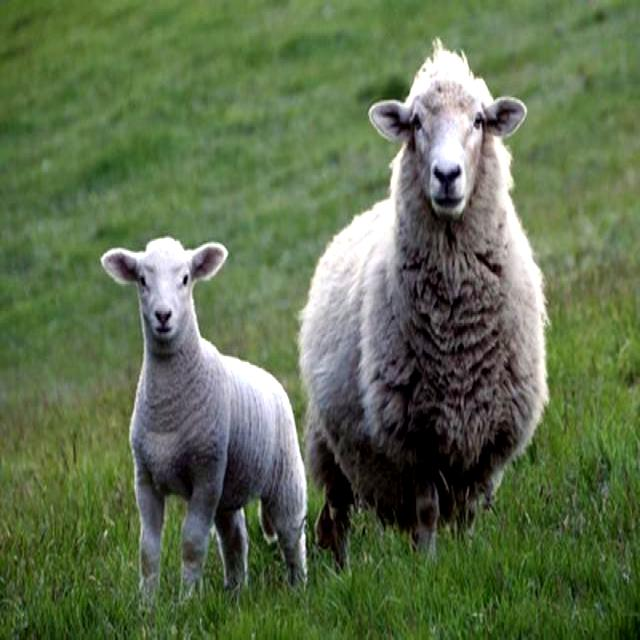sheep: (301, 40, 550, 581), (97, 240, 307, 602)
